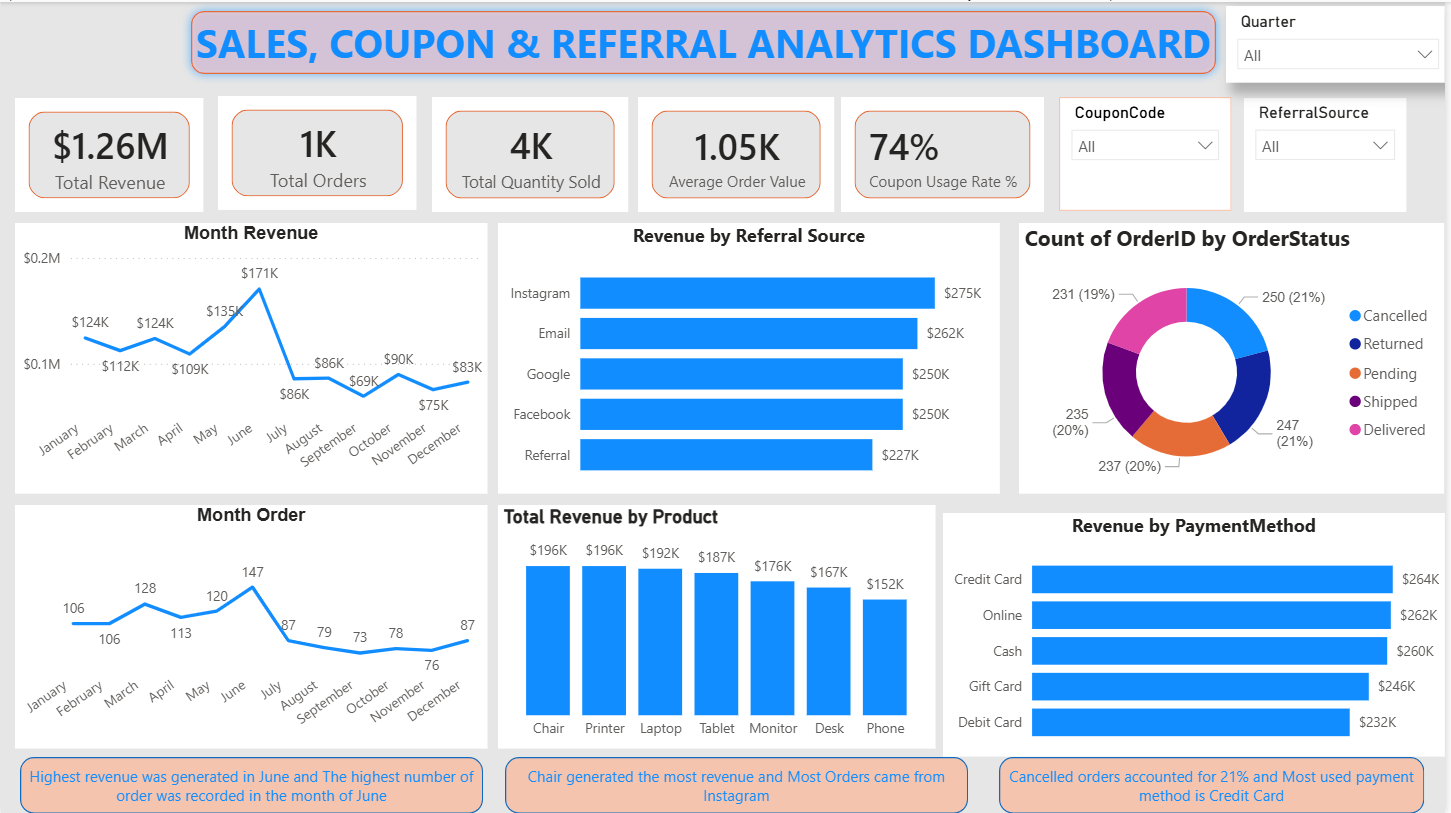

The page's visual inventory and layout, read from the dashboard file:
{"tool":"powerbi","page":{"name":"Page 1","canvas":[1280,720],"ordinal":0},"visuals":[{"type":"clusteredBarChart","title":"Revenue by Referral Source","fields":{"Category":["Orders.ReferralSource"],"Y":["Orders.Total Revenue"]},"box":[440.3,196,444.9,239.7],"z":0},{"type":"donutChart","fields":{"Category":["Orders.OrderStatus"],"Y":["CountNonNull(Orders.OrderID)"]},"box":[902.9,196,377.1,239.7],"z":1000},{"type":"clusteredBarChart","title":"Revenue by PaymentMethod","fields":{"Category":["Orders.PaymentMethod"],"Y":["Orders.Total Revenue"]},"box":[835.1,453.3,444.9,216.4],"z":2000},{"type":"slicer","title":"Referral Source","fields":{"Values":["Orders.ReferralSource"]},"box":[1102.2,85.1,143.6,101.1],"z":3000},{"type":"lineChart","title":"Month Revenue","fields":{"Y":["Orders.Total Revenue"],"Category":["Orders.Date.Variation.Date Hierarchy.Month"]},"box":[12.1,196,418.9,239.7],"z":4000},{"type":"lineChart","title":"Month Order","fields":{"Category":["Orders.Date.Variation.Date Hierarchy.Month"],"Y":["CountNonNull(Orders.OrderID)"]},"box":[12.1,445.9,418.9,216.4],"z":5000},{"type":"columnChart","fields":{"Y":["Orders.Total Revenue"],"Category":["Orders.Product"]},"box":[440.3,445.9,388.3,216.4],"z":6000},{"type":"cardVisual","fields":{"Data":["Orders.Total Orders"]},"box":[192.4,83.3,176.5,102],"z":7000},{"type":"cardVisual","fields":{"Data":["Orders.Average Order Value"]},"box":[565,84,174,102],"z":8000},{"type":"cardVisual","fields":{"Data":["Orders.Total Quantity Sold"]},"box":[382,84,174,102],"z":9000},{"type":"shape","box":[160.5,0,924.8,71.8],"z":10000},{"type":"cardVisual","fields":{"Data":["Orders.Total Revenue"]},"box":[12.4,85.1,167.6,102],"z":11000},{"type":"shape","box":[16.7,669.7,410.6,50.2],"z":12000},{"type":"shape","box":[446.8,669.7,410.6,50.2],"z":13000},{"type":"shape","box":[885.2,669.7,377.1,50.2],"z":14000},{"type":"cardVisual","fields":{"Data":["Orders.Coupon Usage Rate %"]},"box":[745,84,180,102],"z":15000},{"type":"slicer","fields":{"Values":["Orders.CouponCode"]},"box":[938.1,84.2,153.4,101.1],"z":16000},{"type":"slicer","fields":{"Values":["Orders.Date.Variation.Date Hierarchy.Quarter"]},"box":[1086.2,3.5,194.2,68.3],"z":17000}]}

Visuals, with their boxes in screenshot pixels (x1, y1, x2, y2), scaled from the page's 1280x720 canvas onto the 1451x813 screenshot:
"Revenue by Referral Source" clusteredBarChart: box=[499, 221, 1003, 492]
donutChart - Orders.OrderStatus x CountNonNull(Orders.OrderID): box=[1024, 221, 1450, 492]
"Revenue by PaymentMethod" clusteredBarChart: box=[947, 512, 1450, 756]
"Referral Source" slicer: box=[1249, 96, 1412, 210]
"Month Revenue" lineChart: box=[14, 221, 489, 492]
"Month Order" lineChart: box=[14, 503, 489, 748]
columnChart - Orders.Total Revenue x Orders.Product: box=[499, 503, 939, 748]
cardVisual - Orders.Total Orders: box=[218, 94, 418, 209]
cardVisual - Orders.Average Order Value: box=[640, 95, 838, 210]
cardVisual - Orders.Total Quantity Sold: box=[433, 95, 630, 210]
shape: box=[182, 0, 1230, 81]
cardVisual - Orders.Total Revenue: box=[14, 96, 204, 211]
shape: box=[19, 756, 484, 812]
shape: box=[506, 756, 972, 812]
shape: box=[1003, 756, 1431, 812]
cardVisual - Orders.Coupon Usage Rate %: box=[845, 95, 1049, 210]
slicer - Orders.CouponCode: box=[1063, 95, 1237, 209]
slicer - Orders.Date.Variation.Date Hierarchy.Quarter: box=[1231, 4, 1450, 81]
